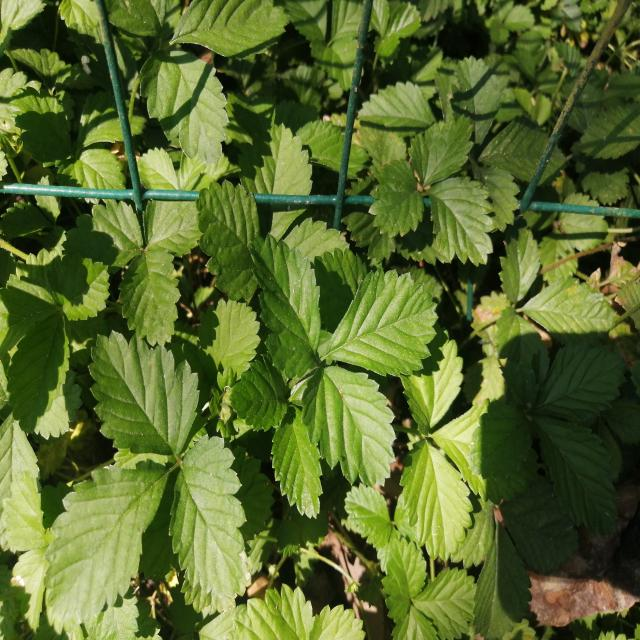Mock_strawberry: (14, 333, 274, 599), (247, 232, 445, 470)
